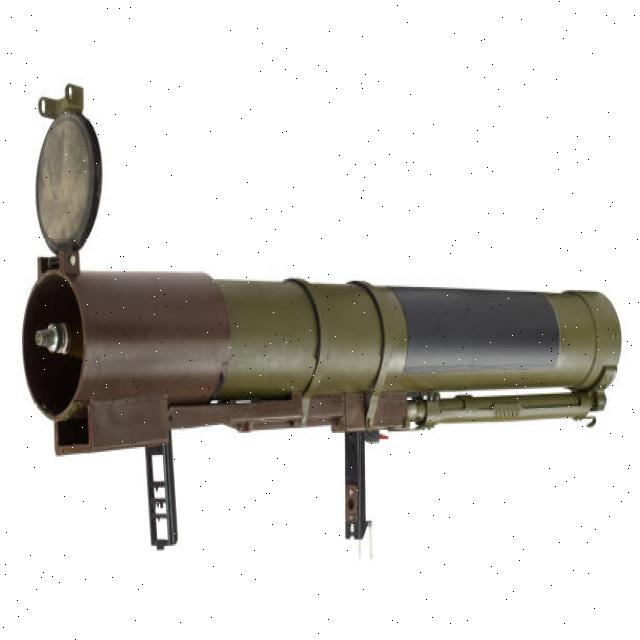bazooka: (15, 75, 630, 572)
